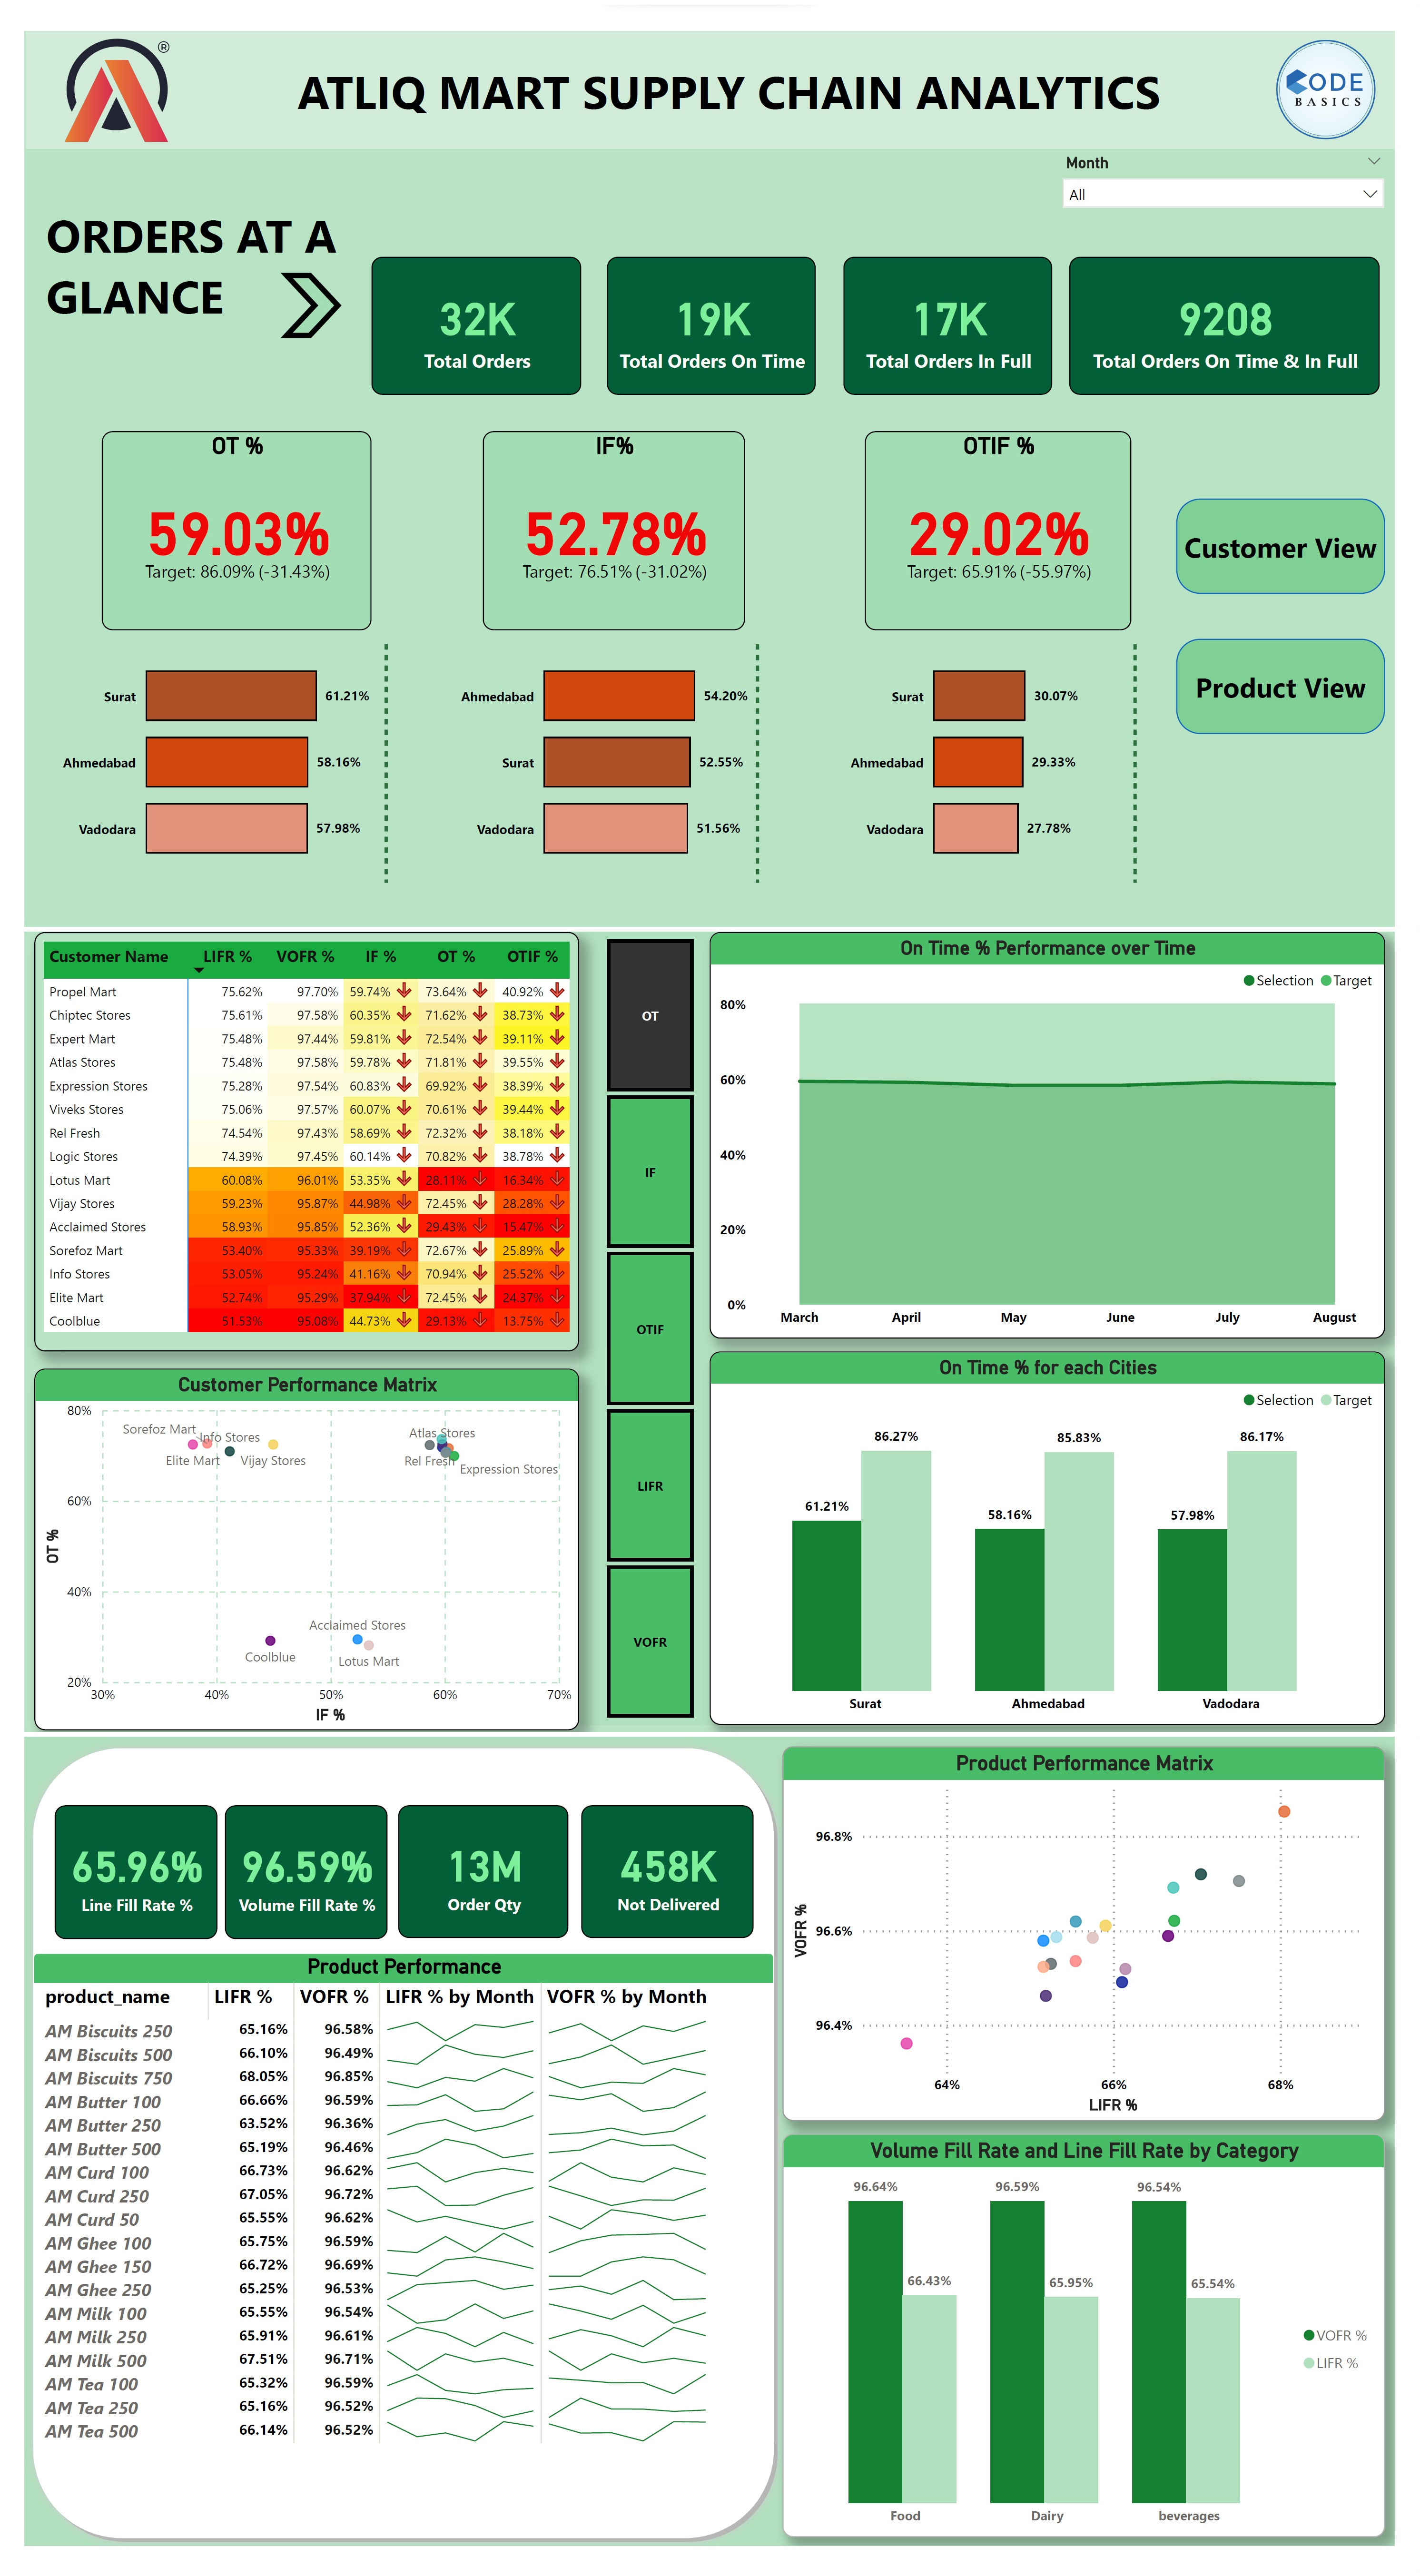

The page's visual inventory and layout, read from the dashboard file:
{"tool":"powerbi","page":{"name":"Dashboard","canvas":[1280,841],"ordinal":0},"visuals":[{"type":"barChart","fields":{"Category":["dim_customers.city"],"Y":["Measure Table.OT %"]},"box":[29.3,559.8,350,241.5],"z":0},{"type":"barChart","fields":{"Category":["dim_customers.city"],"Y":["Measure Table.IF %"]},"box":[401.2,559.8,350,241.5],"z":1000},{"type":"barChart","fields":{"Y":["Measure Table.OTIF %"],"Category":["dim_customers.city"]},"box":[764.6,559.8,375.6,241.5],"z":2000},{"type":"kpi","title":"OT %","fields":{"Indicator":["Measure Table.OT %"],"Goal":["Measure Table.On Time Target"],"TrendLine":["dim_date.date.Variation.Date Hierarchy.Year"]},"box":[72,374.4,252.4,185.4],"z":3000},{"type":"card","fields":{"Values":["Measure Table.Total Orders"]},"box":[324.4,211,195.1,129.3],"z":4000},{"type":"kpi","title":"IF%","fields":{"Indicator":["Measure Table.IF %"],"Goal":["Measure Table.In Full Target"],"TrendLine":["dim_date.date.Variation.Date Hierarchy.Year"]},"box":[428,374.4,245.1,185.4],"z":5000},{"type":"shape","title":"dddd","box":[1.2,0,1279.3,109.8],"z":6000},{"type":"kpi","title":"OTIF %","fields":{"Goal":["Measure Table.On Time In Full Target"],"Indicator":["Measure Table.OTIF %"],"TrendLine":["dim_date.date.Variation.Date Hierarchy.Year"]},"box":[785.4,374.4,248.8,185.4],"z":7000},{"type":"image","box":[0,0,174.4,109.8],"z":8000},{"type":"textbox","box":[14.6,156.1,290.2,198.8],"z":9000},{"type":"card","fields":{"Values":["fact_orders_aggregate.on_time"]},"box":[543.9,211,195.1,129.3],"z":10000},{"type":"card","fields":{"Values":["fact_orders_aggregate.in_full"]},"box":[764.6,211,195.1,129.3],"z":11000},{"type":"card","fields":{"Values":["fact_orders_aggregate.otif"]},"box":[975.6,211,290.2,129.3],"z":12000},{"type":"image","box":[1152.4,0,128,109.8],"z":13000},{"type":"shape","box":[239,225.6,57.3,61],"z":14000},{"type":"slicer","fields":{"Values":["dim_date.date.Variation.Date Hierarchy.Month"]},"box":[959.8,109.8,320.7,62.2],"z":15000},{"type":"shape","box":[1075.6,436.6,195.1,89],"z":16000},{"type":"shape","box":[1076.2,567.9,195,89.5],"z":17000}]}

Visuals, with their boxes on the page's 1280x841 design canvas (x1, y1, x2, y2). These are canvas units, not pixel positions in the 1420x2576 screenshot, which may show the page scaled, cropped or inside an application window:
barChart - dim_customers.city x Measure Table.OT %: x1=29, y1=560, x2=379, y2=801
barChart - dim_customers.city x Measure Table.IF %: x1=401, y1=560, x2=751, y2=801
barChart - Measure Table.OTIF % x dim_customers.city: x1=765, y1=560, x2=1140, y2=801
"OT %" kpi: x1=72, y1=374, x2=324, y2=560
card - Measure Table.Total Orders: x1=324, y1=211, x2=520, y2=340
"IF%" kpi: x1=428, y1=374, x2=673, y2=560
"dddd" shape: x1=1, y1=0, x2=1280, y2=110
"OTIF %" kpi: x1=785, y1=374, x2=1034, y2=560
image: x1=0, y1=0, x2=174, y2=110
textbox: x1=15, y1=156, x2=305, y2=355
card - fact_orders_aggregate.on_time: x1=544, y1=211, x2=739, y2=340
card - fact_orders_aggregate.in_full: x1=765, y1=211, x2=960, y2=340
card - fact_orders_aggregate.otif: x1=976, y1=211, x2=1266, y2=340
image: x1=1152, y1=0, x2=1280, y2=110
shape: x1=239, y1=226, x2=296, y2=287
slicer - dim_date.date.Variation.Date Hierarchy.Month: x1=960, y1=110, x2=1280, y2=172
shape: x1=1076, y1=437, x2=1271, y2=526
shape: x1=1076, y1=568, x2=1271, y2=657
